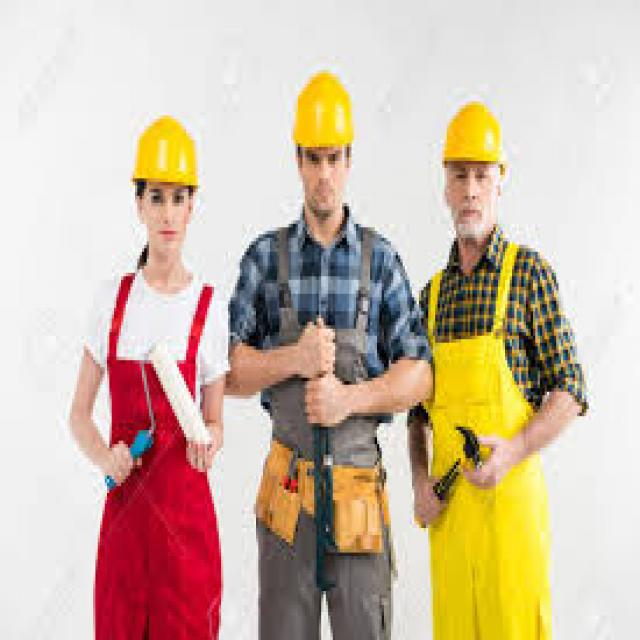Reflective-Jacket: (419, 248, 556, 636)
Safety-Helmet: (286, 63, 358, 161), (128, 109, 202, 200), (438, 94, 508, 175)
